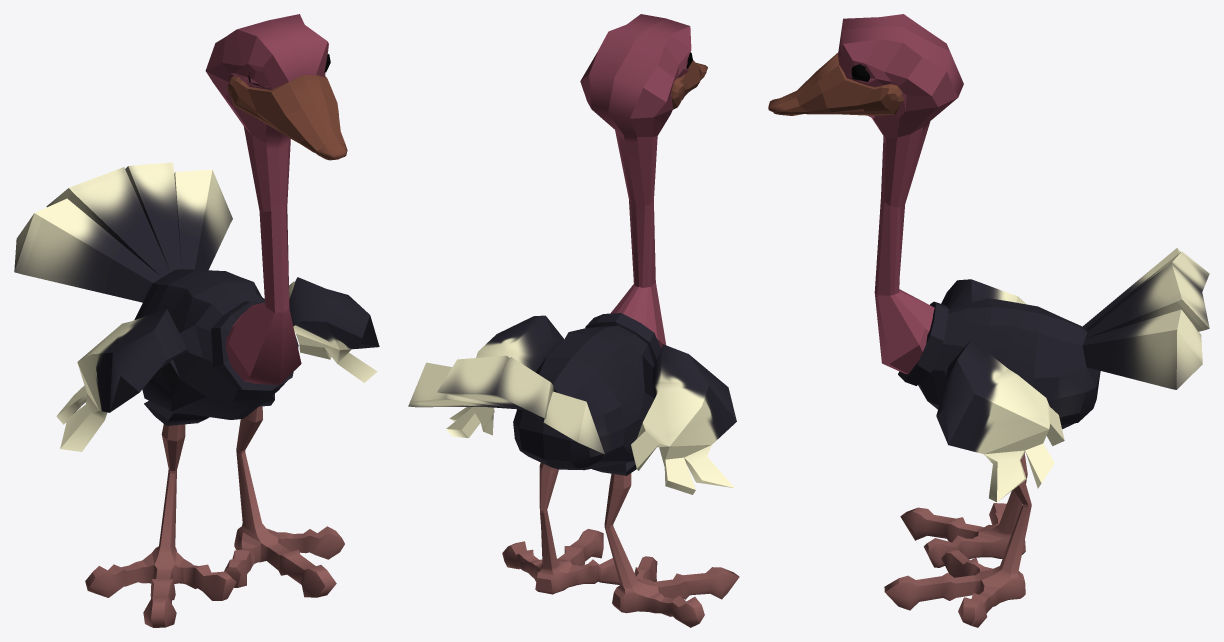
The model's file is Ostrich_OBJ.obj.
The picture shows the model from 3 angles, left to right: view 1: azimuth 30°, elevation 25°; view 2: azimuth 150°, elevation 25°; view 3: azimuth 270°, elevation 25°; orthographic projection. The views are drawn at different scales.
Visible parts, largest first — view 1: Body Ostrich, Ostrich Head, Ostrich Legs; view 2: Body Ostrich, Ostrich Head, Ostrich Legs; view 3: Body Ostrich, Ostrich Head, Ostrich Legs.
Part boxes in pixels (bbox=[...]): Body Ostrich: bbox=[14, 162, 379, 451]; Ostrich Head: bbox=[205, 14, 347, 384]; Ostrich Legs: bbox=[85, 406, 344, 627]; Body Ostrich: bbox=[408, 313, 736, 494]; Ostrich Head: bbox=[580, 14, 707, 348]; Ostrich Legs: bbox=[502, 462, 739, 627]; Body Ostrich: bbox=[898, 248, 1209, 502]; Ostrich Head: bbox=[768, 14, 963, 374]; Ostrich Legs: bbox=[884, 453, 1031, 627].
Bounding box in the file's own units: 19.95 × 35.32 × 25.45.
6 materials, 1 textured.
